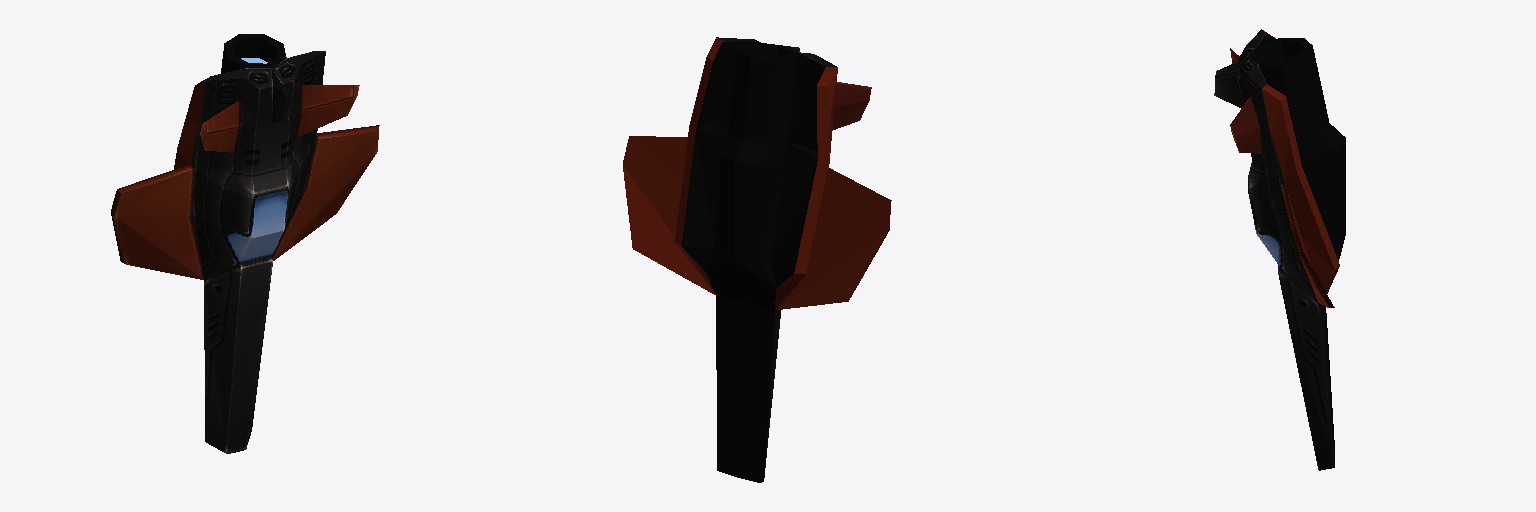
3 renders of one model, left to right at view 1: azimuth 30°, elevation 25°; view 2: azimuth 150°, elevation 25°; view 3: azimuth 270°, elevation 25°, orthographic.
Visible parts, largest first — view 1: _unnamed_; view 2: _unnamed_; view 3: _unnamed_.
Boxes of the visible parts, box(x1,y1,x2,y2) form: _unnamed_: box(111, 34, 379, 453); _unnamed_: box(623, 37, 891, 482); _unnamed_: box(1214, 29, 1345, 470).
Size of the model in its own units: 0.1707 by 0.2571 by 0.0727.
Materials: 1 (1 with a texture image).